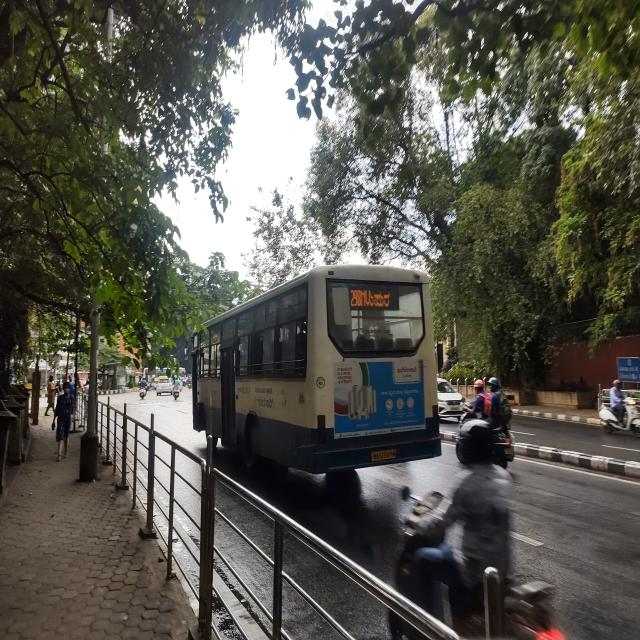bus: (185, 258, 448, 481)
display: (349, 282, 401, 310)
dnumber: (350, 286, 368, 310)
